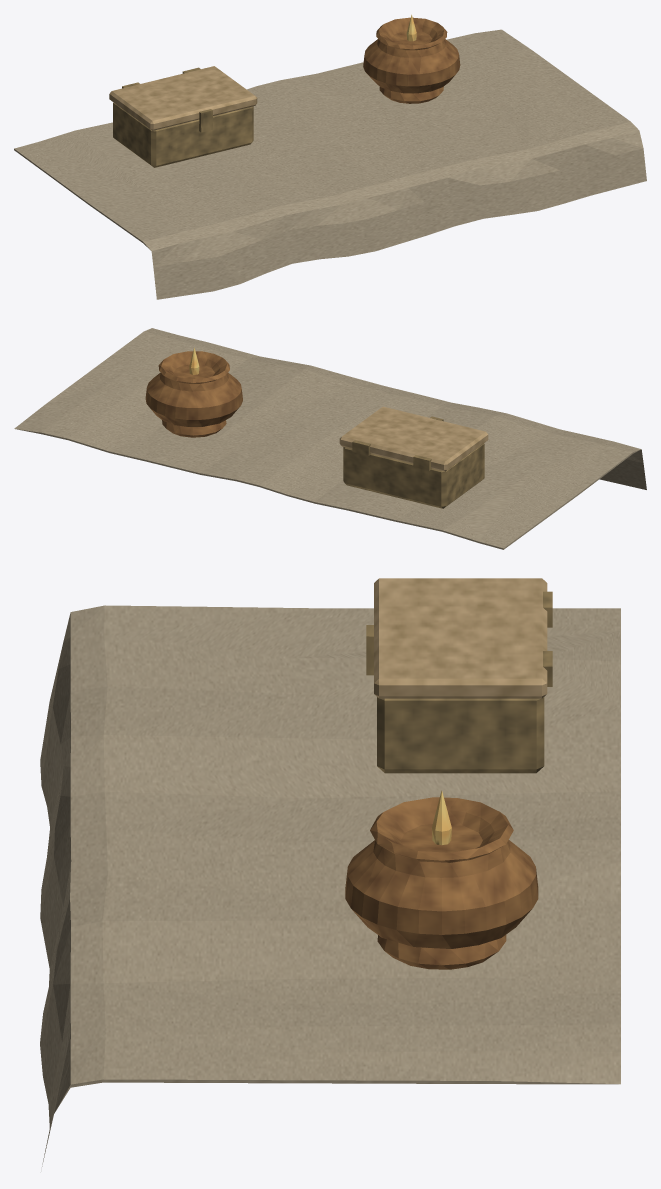
File: BenchDressing_LOD1.fbx
The picture shows the model from 3 angles, top to bottom: view 1: azimuth 30°, elevation 25°; view 2: azimuth 150°, elevation 25°; view 3: azimuth 270°, elevation 25°; orthographic projection. The views are drawn at different scales.
Parts seen in each view (by area): view 1: BenchDressing.001; view 2: BenchDressing.001; view 3: BenchDressing.001.
Boxes of the visible parts, x1,y1,x2,y2 form: BenchDressing.001: (14, 14, 646, 299); BenchDressing.001: (14, 328, 646, 549); BenchDressing.001: (40, 578, 620, 1166).
Size of the model in its own units: 1.32 by 0.3384 by 0.681.
Materials: 1 (1 with a texture image).
